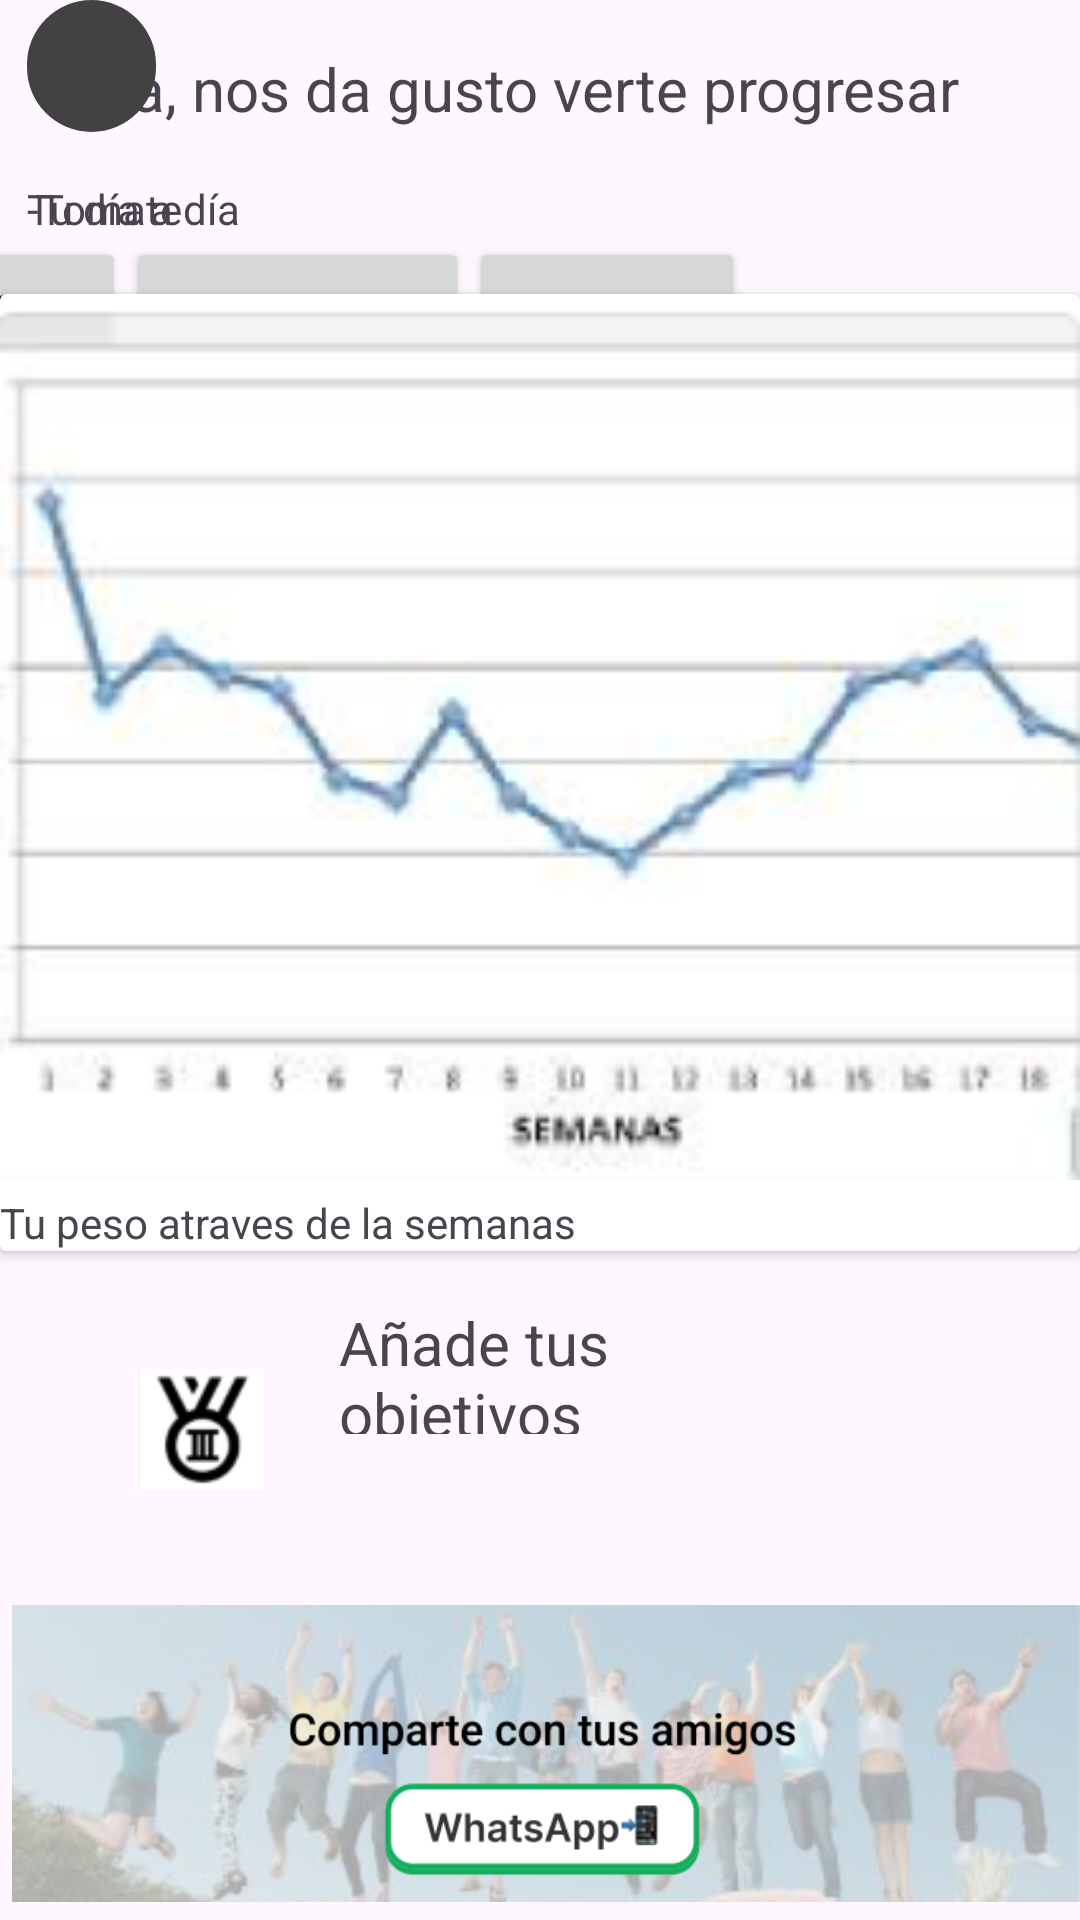

Icon click points for this 1080px×1920px phone screenshot, format [x,y]:
medalla: [202,1430]
